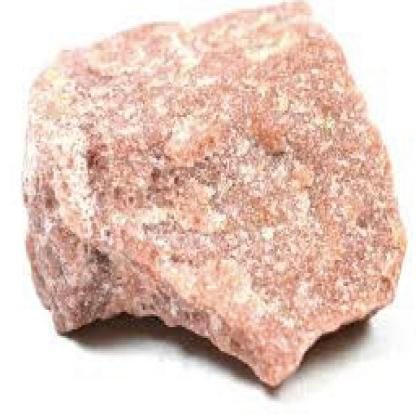Metamorphic_Quartize: (24, 0, 408, 382)
